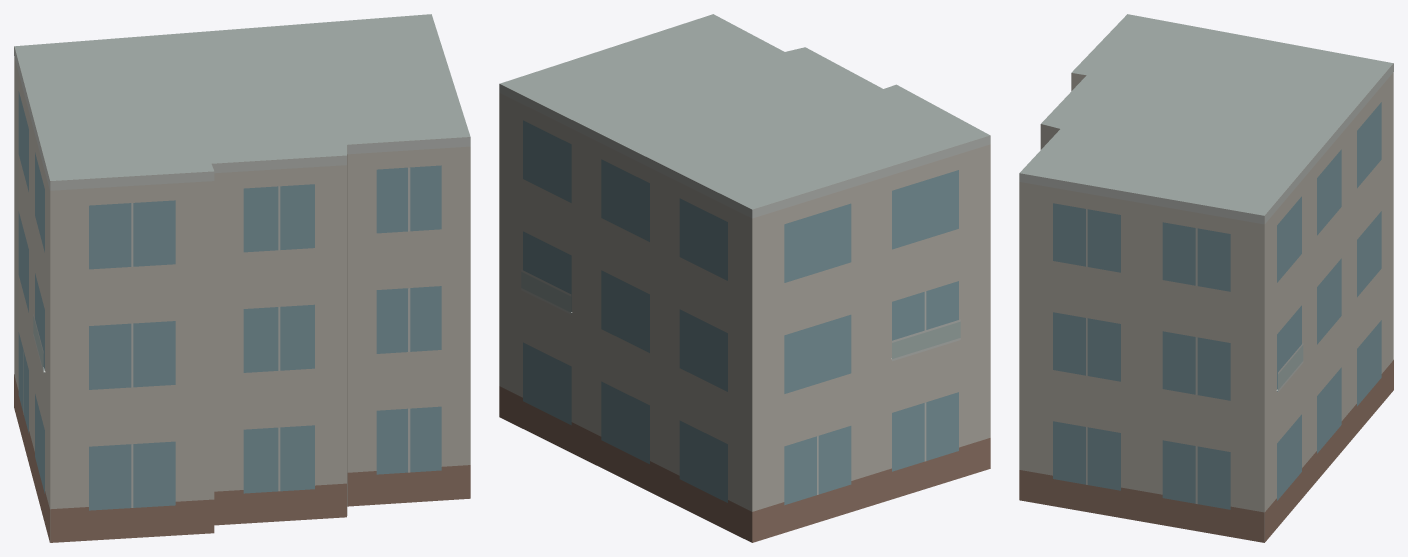
Rendered from survey-upis-32903737.glb.
3 renders of one model, left to right at view 1: azimuth 30°, elevation 25°; view 2: azimuth 150°, elevation 25°; view 3: azimuth 270°, elevation 25°, orthographic. The views are drawn at different scales.
Parts seen in each view (by area): view 1: survey-upis-32903737.tmp; view 2: survey-upis-32903737.tmp; view 3: survey-upis-32903737.tmp.
Part boxes in pixels (x1,y1,x2,y2): survey-upis-32903737.tmp: (14, 14, 470, 542); survey-upis-32903737.tmp: (499, 14, 990, 542); survey-upis-32903737.tmp: (1019, 14, 1393, 542).
Bounding box in the file's own units: 12.12 × 9.15 × 9.5.
